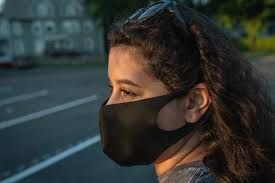with-mask: (95, 37, 213, 165)
